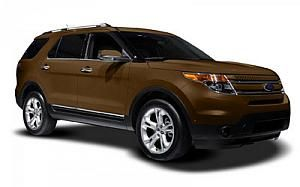Ford Explorer: (14, 20, 293, 164)
